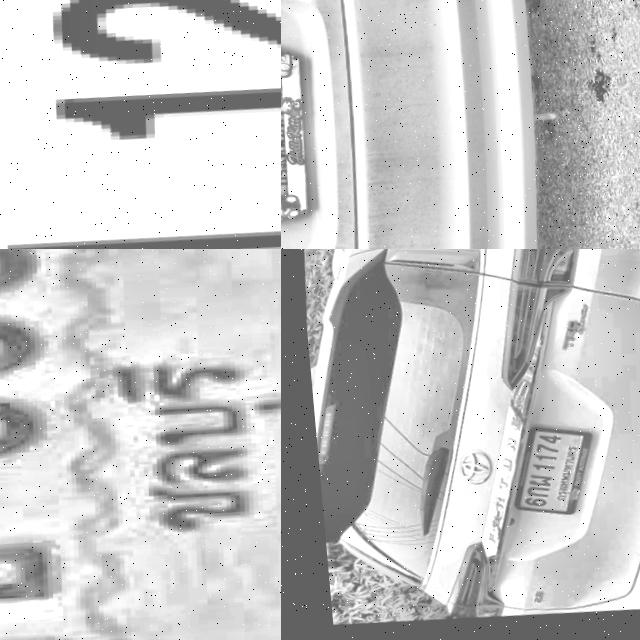license-plate: (0, 249, 281, 640), (0, 0, 281, 249), (494, 424, 590, 527), (281, 43, 308, 229)
